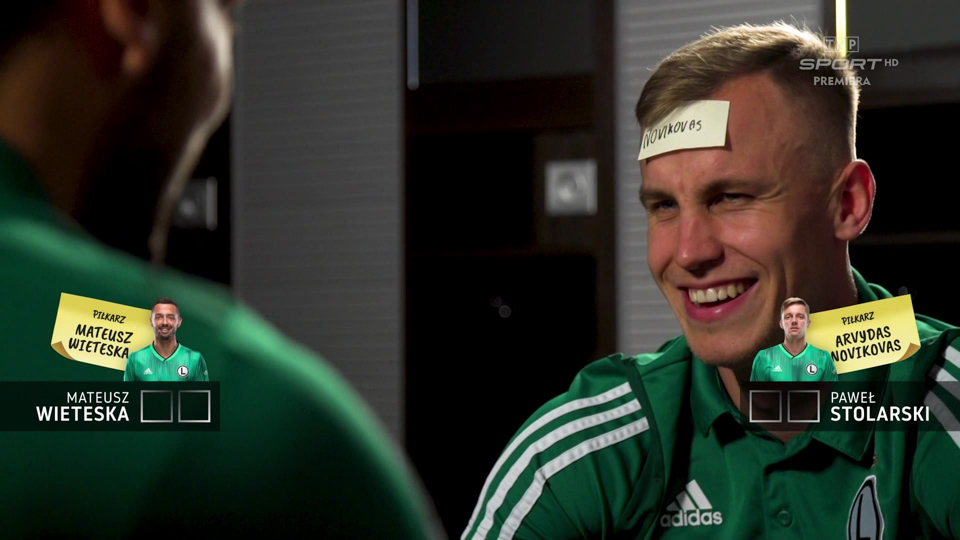Adidas: (656, 476, 725, 527)
